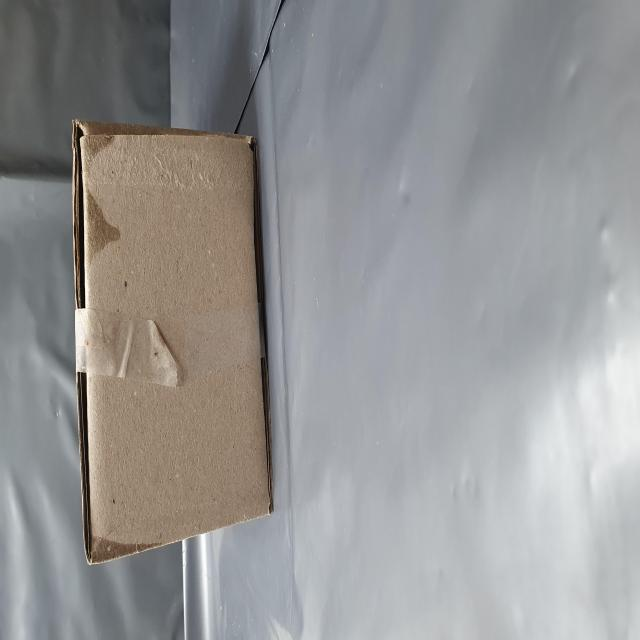wet: (212, 135, 288, 218)
